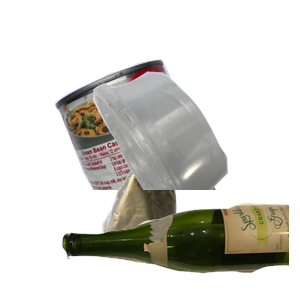glass: (60, 201, 300, 300)
metal: (52, 57, 260, 237)
plastic: (91, 69, 300, 249)
trash: (99, 155, 268, 300)
